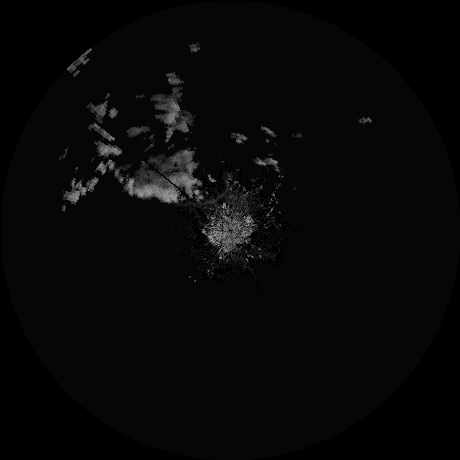frontgust: (185, 181, 230, 207)
